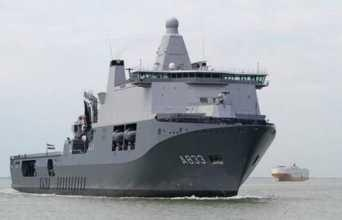otherboat: (1, 15, 274, 197), (272, 158, 315, 183)
